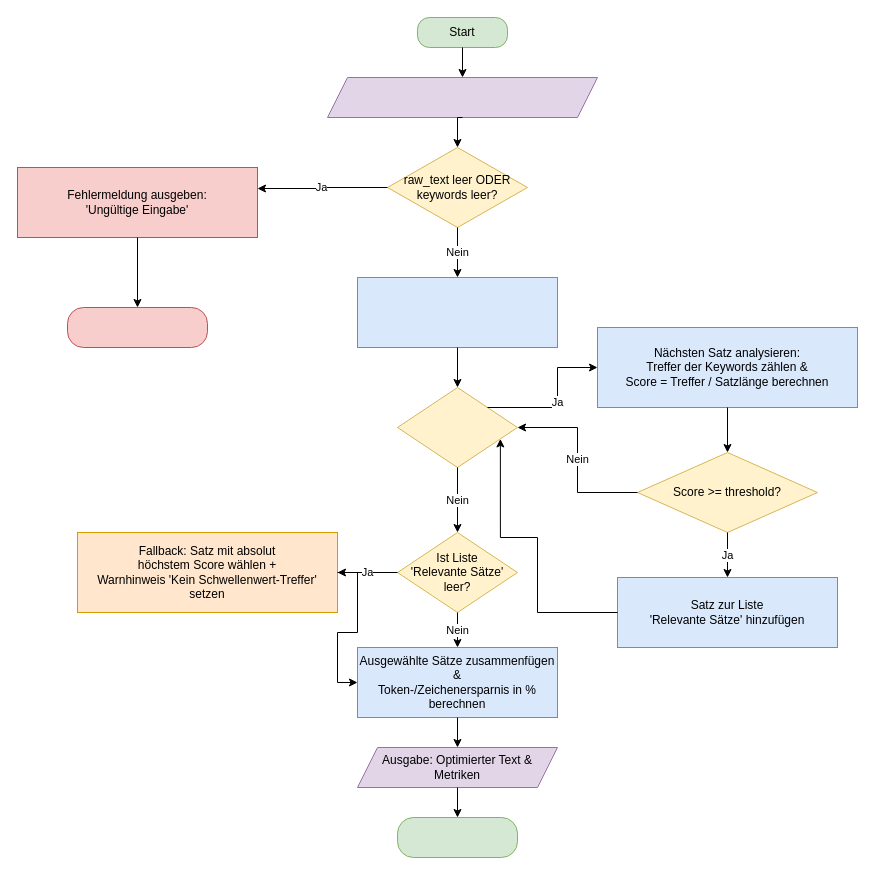
This 875x875 diagram has some shape labels left out. The centre of each missing label's shape, as x and y in pixels:
Eingabe: raw_text, keywords, threshold: the point at 462,97
Ende: Erfolg: the point at 457,837
Ende: Fehler: the point at 137,327
Gibt es noch ungeprüfte Sätze?: the point at 457,427
Text in Einzelsätze zerlegen & Keywords normalisieren / Kleinschreibung: the point at 457,312
